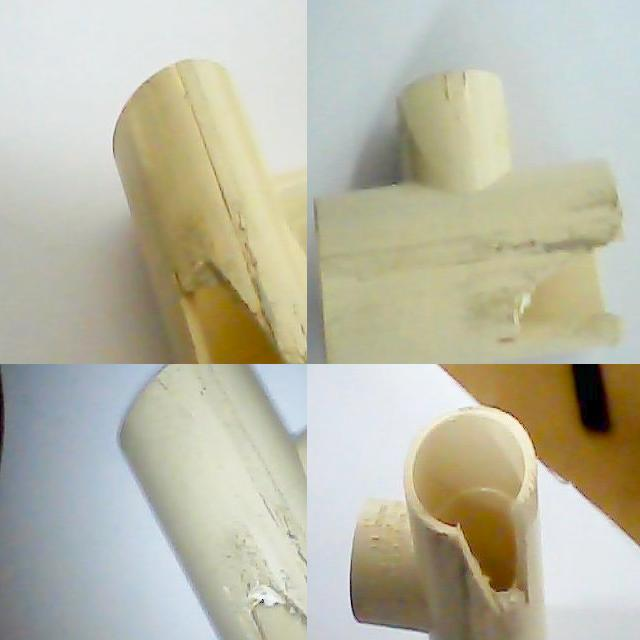Defective: (512, 230, 628, 358), (183, 262, 293, 364), (432, 490, 528, 605), (450, 503, 532, 618), (253, 605, 307, 640)
T Joint: (313, 72, 625, 364), (111, 59, 307, 364), (117, 364, 307, 640), (348, 406, 550, 640)
